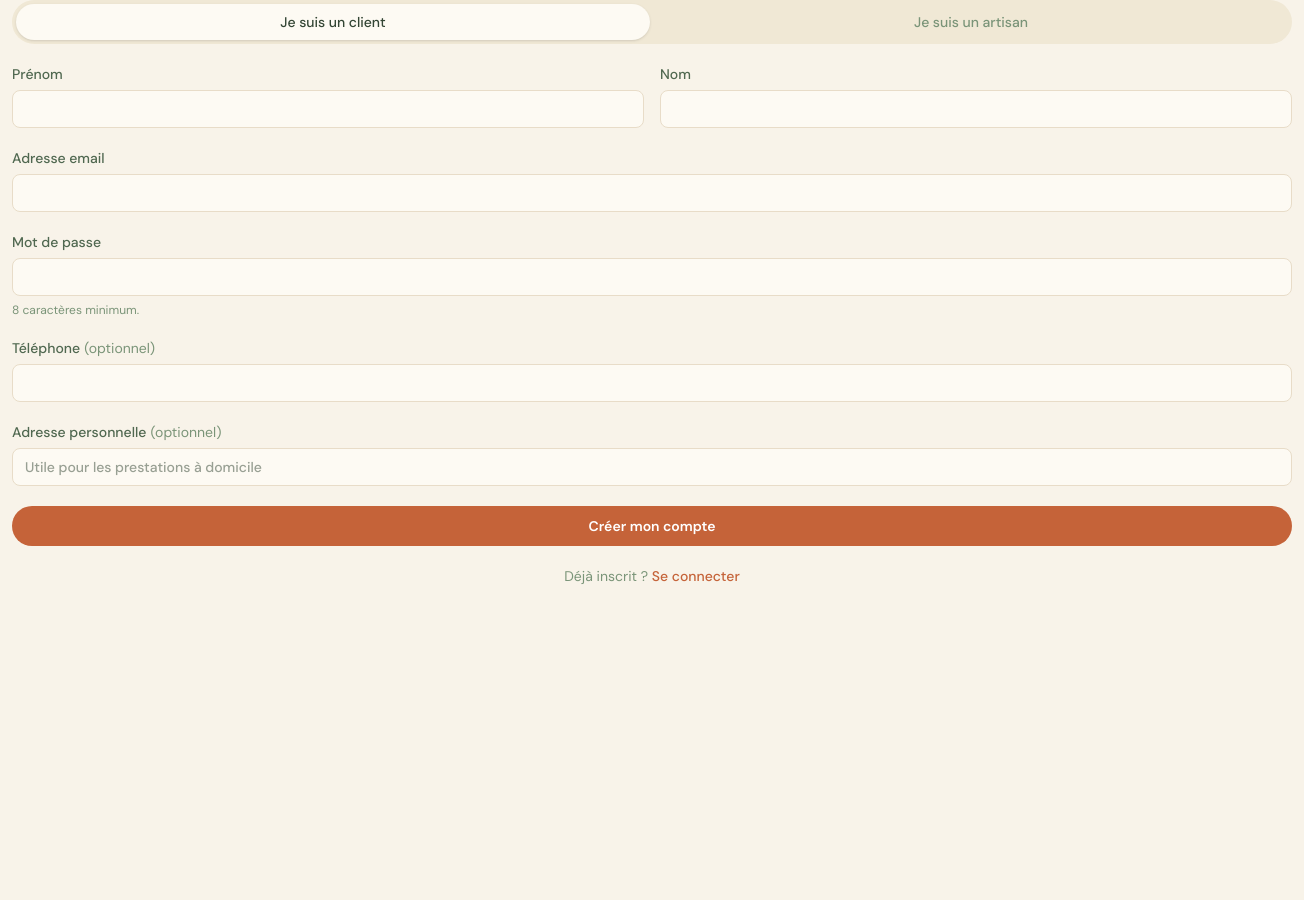
Test: RegisterForm › translates known authentication error messages
The image size is (1304, 900).
Type "Jean" into the field labelled "Prénom" at (328, 109), box left=12, top=90, right=644, bottom=128
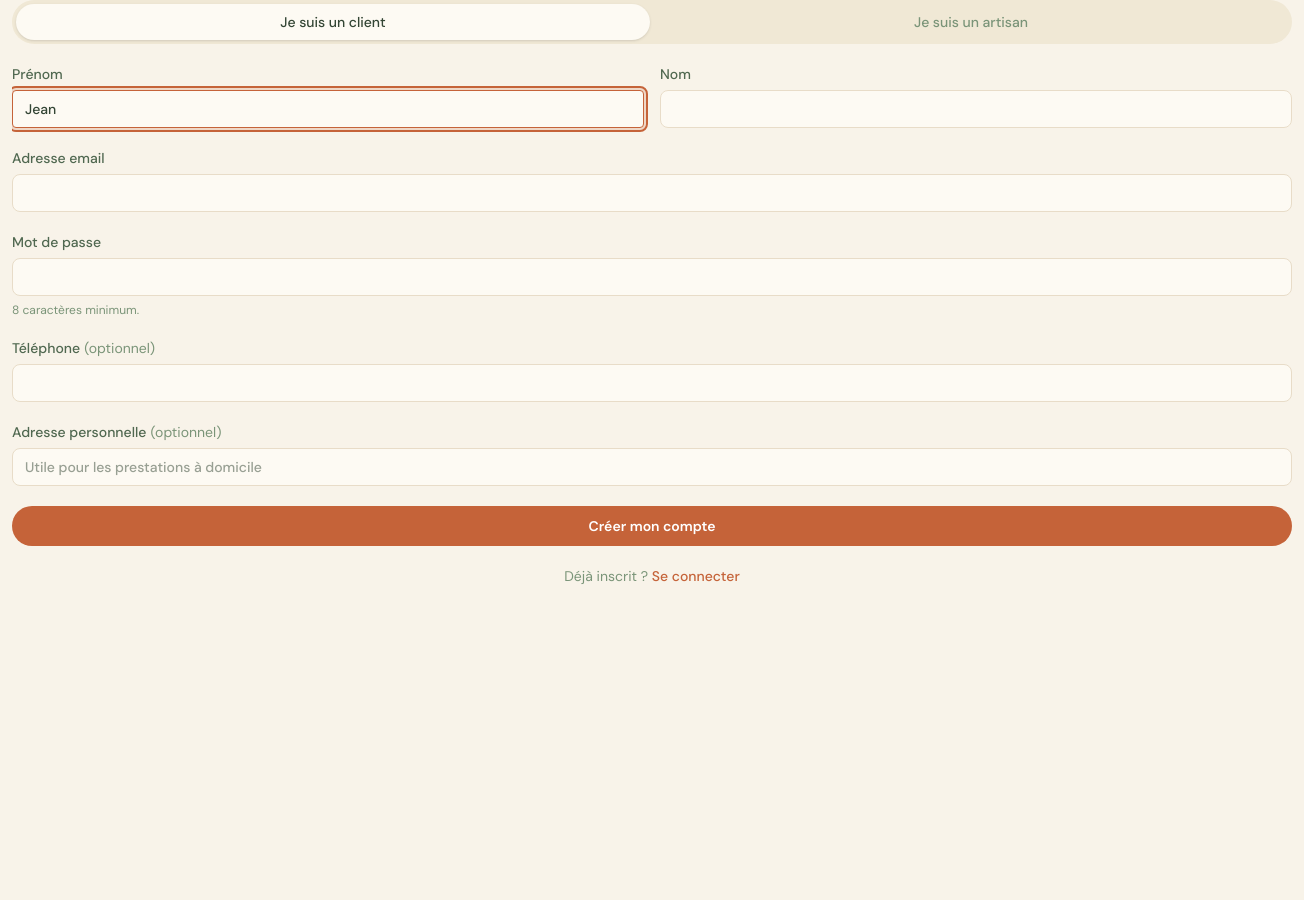
Type "Dupont" into the field labelled "Nom" at (976, 109), box left=660, top=90, right=1292, bottom=128
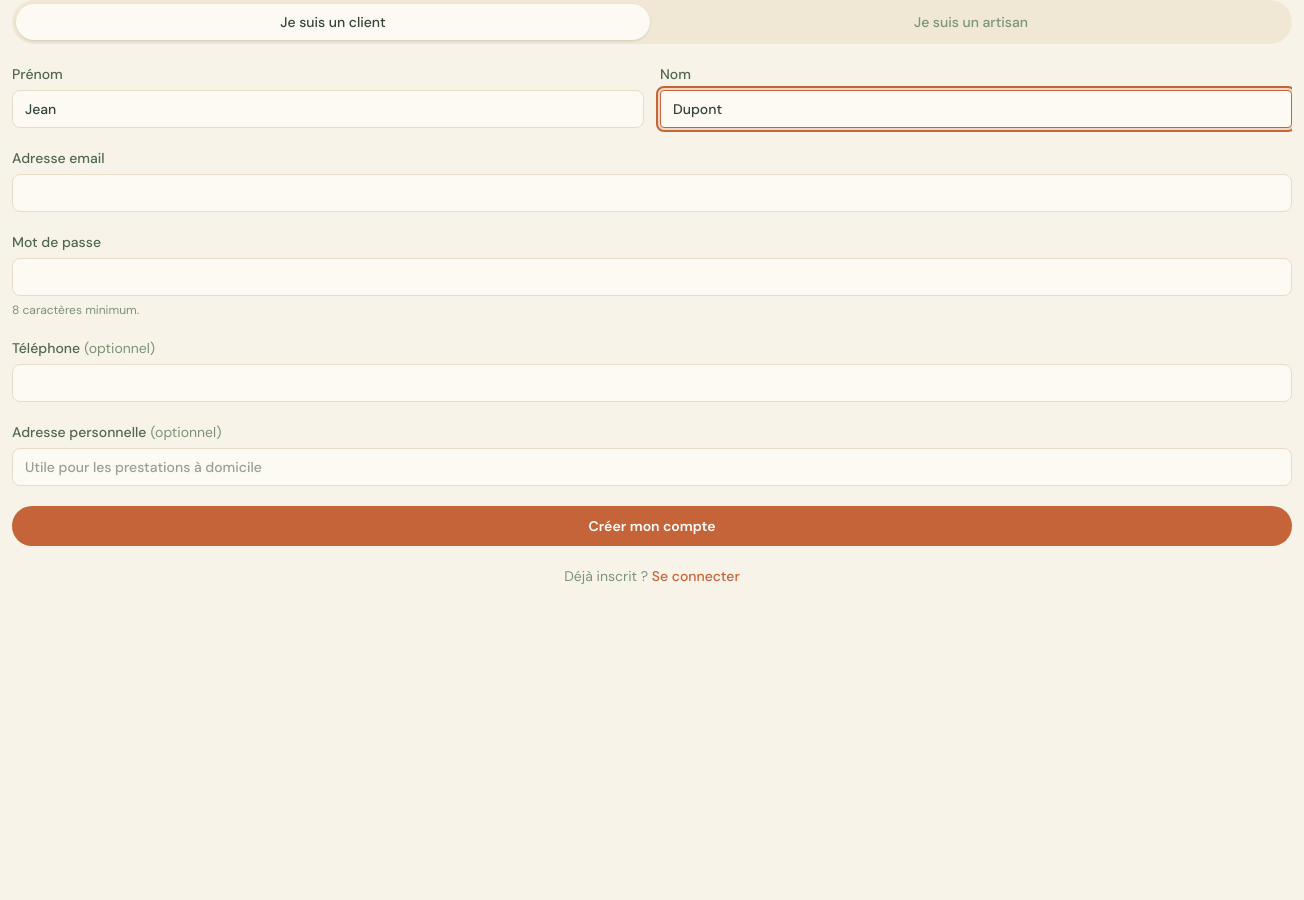
Type "jean.dupont@example.com" into the field labelled "Adresse email" at (652, 193), box left=12, top=174, right=1292, bottom=212
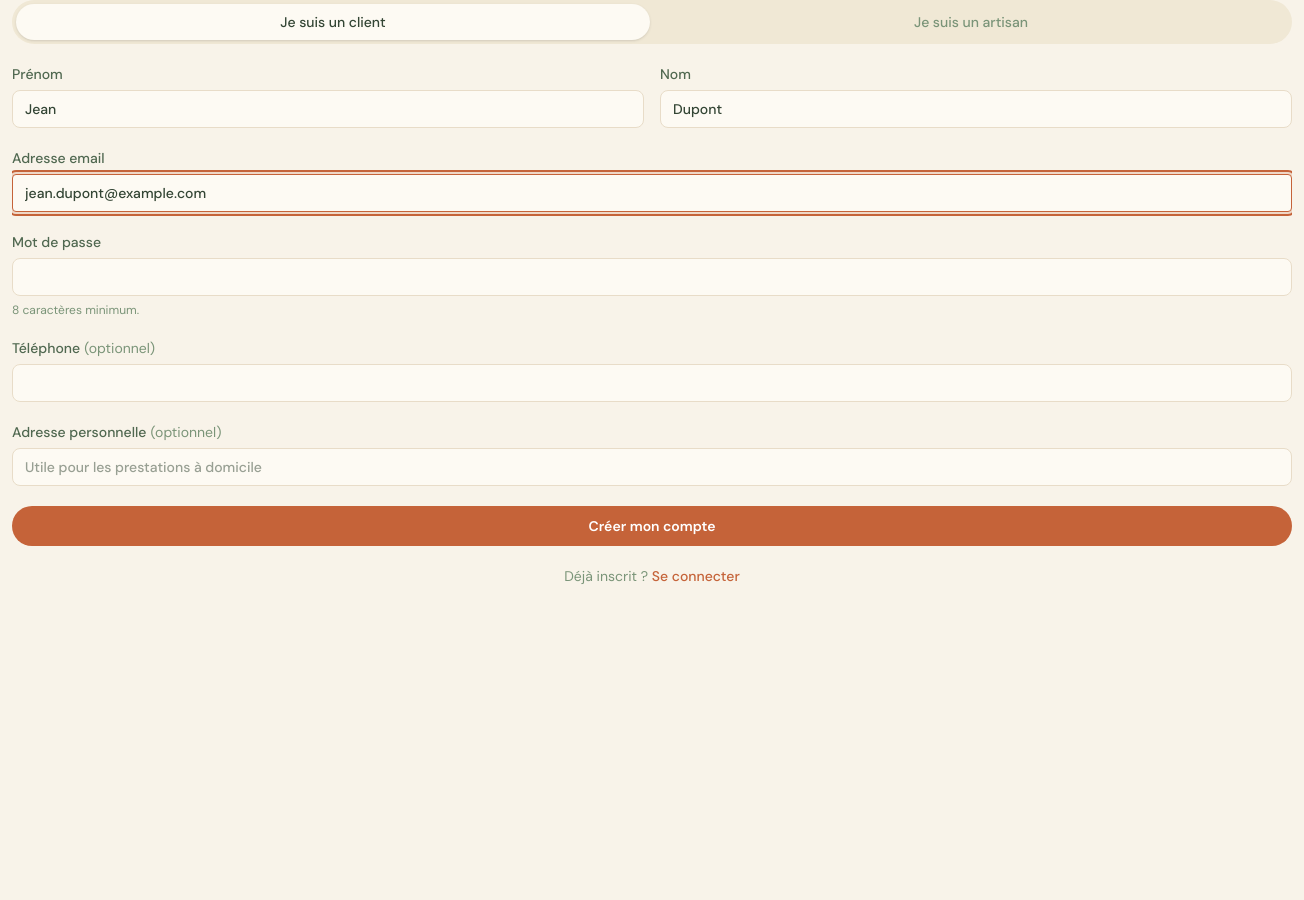
Type "motdepasse123" into the password field labelled "Mot de passe 8 caractères minimum." at (652, 277), box left=12, top=258, right=1292, bottom=296
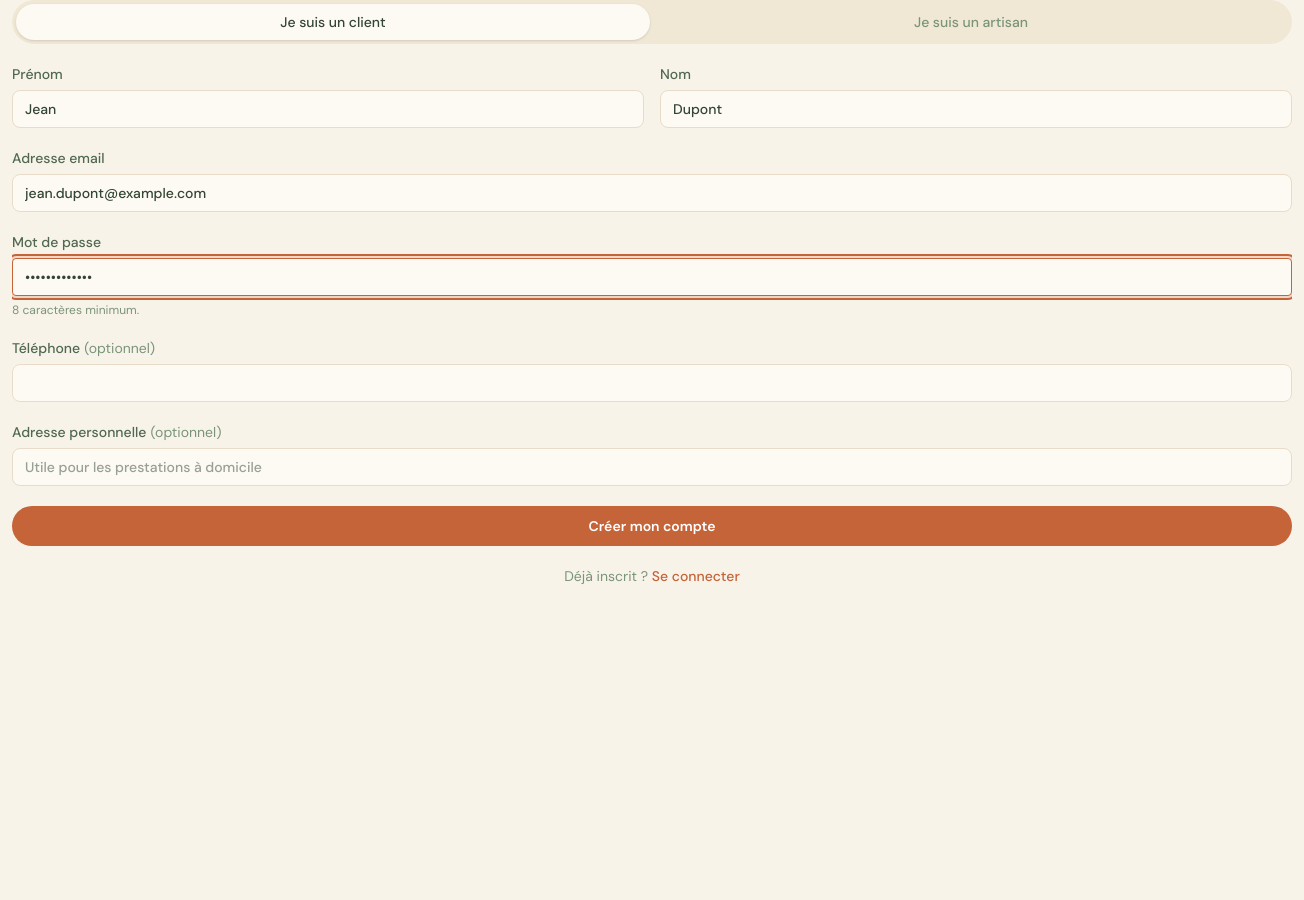
Click the button "Créer mon compte" at (652, 526), box left=12, top=506, right=1292, bottom=546
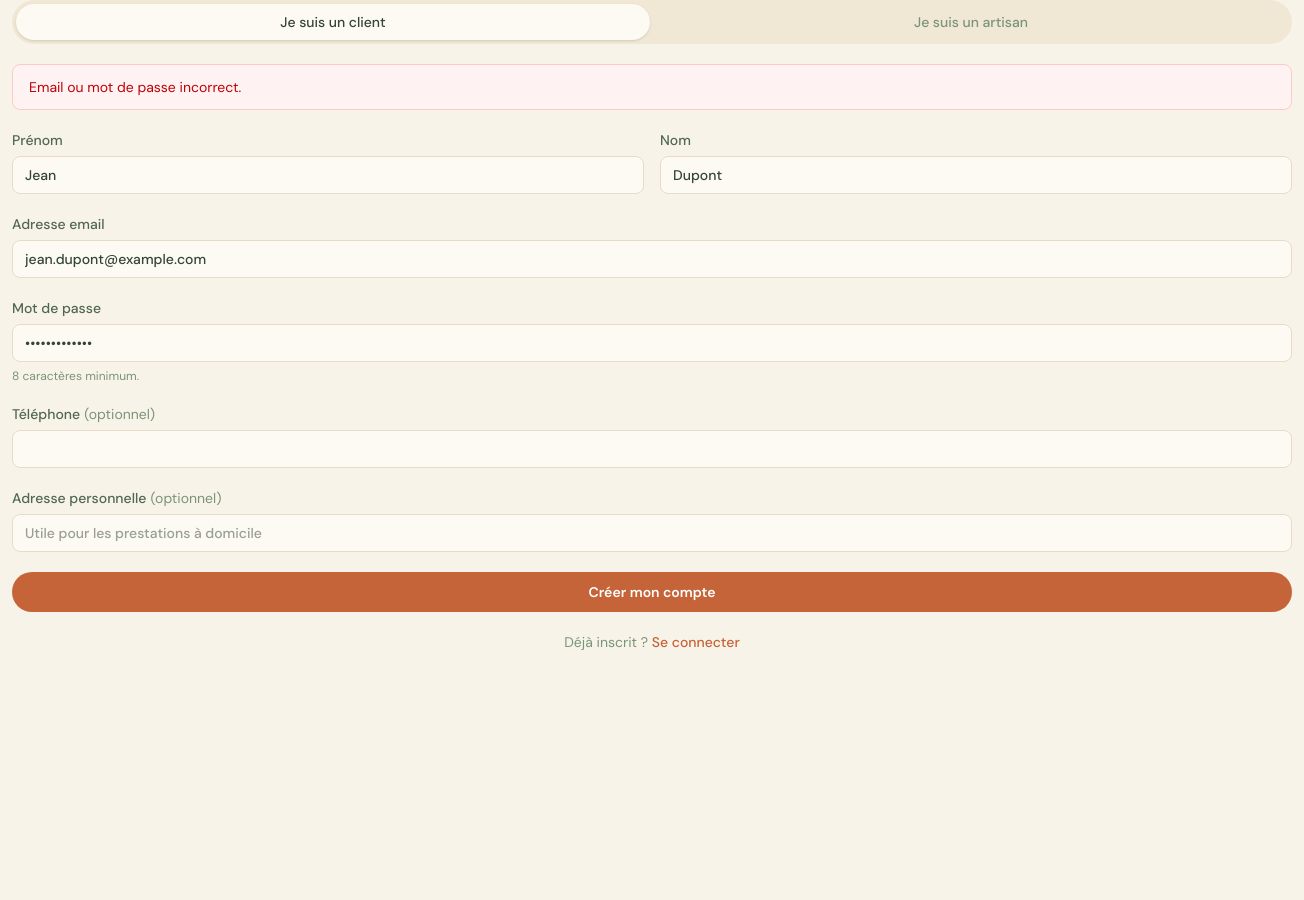
Check: the text "Email ou mot de passe incorrect." is shown, box left=12, top=64, right=1292, bottom=110
